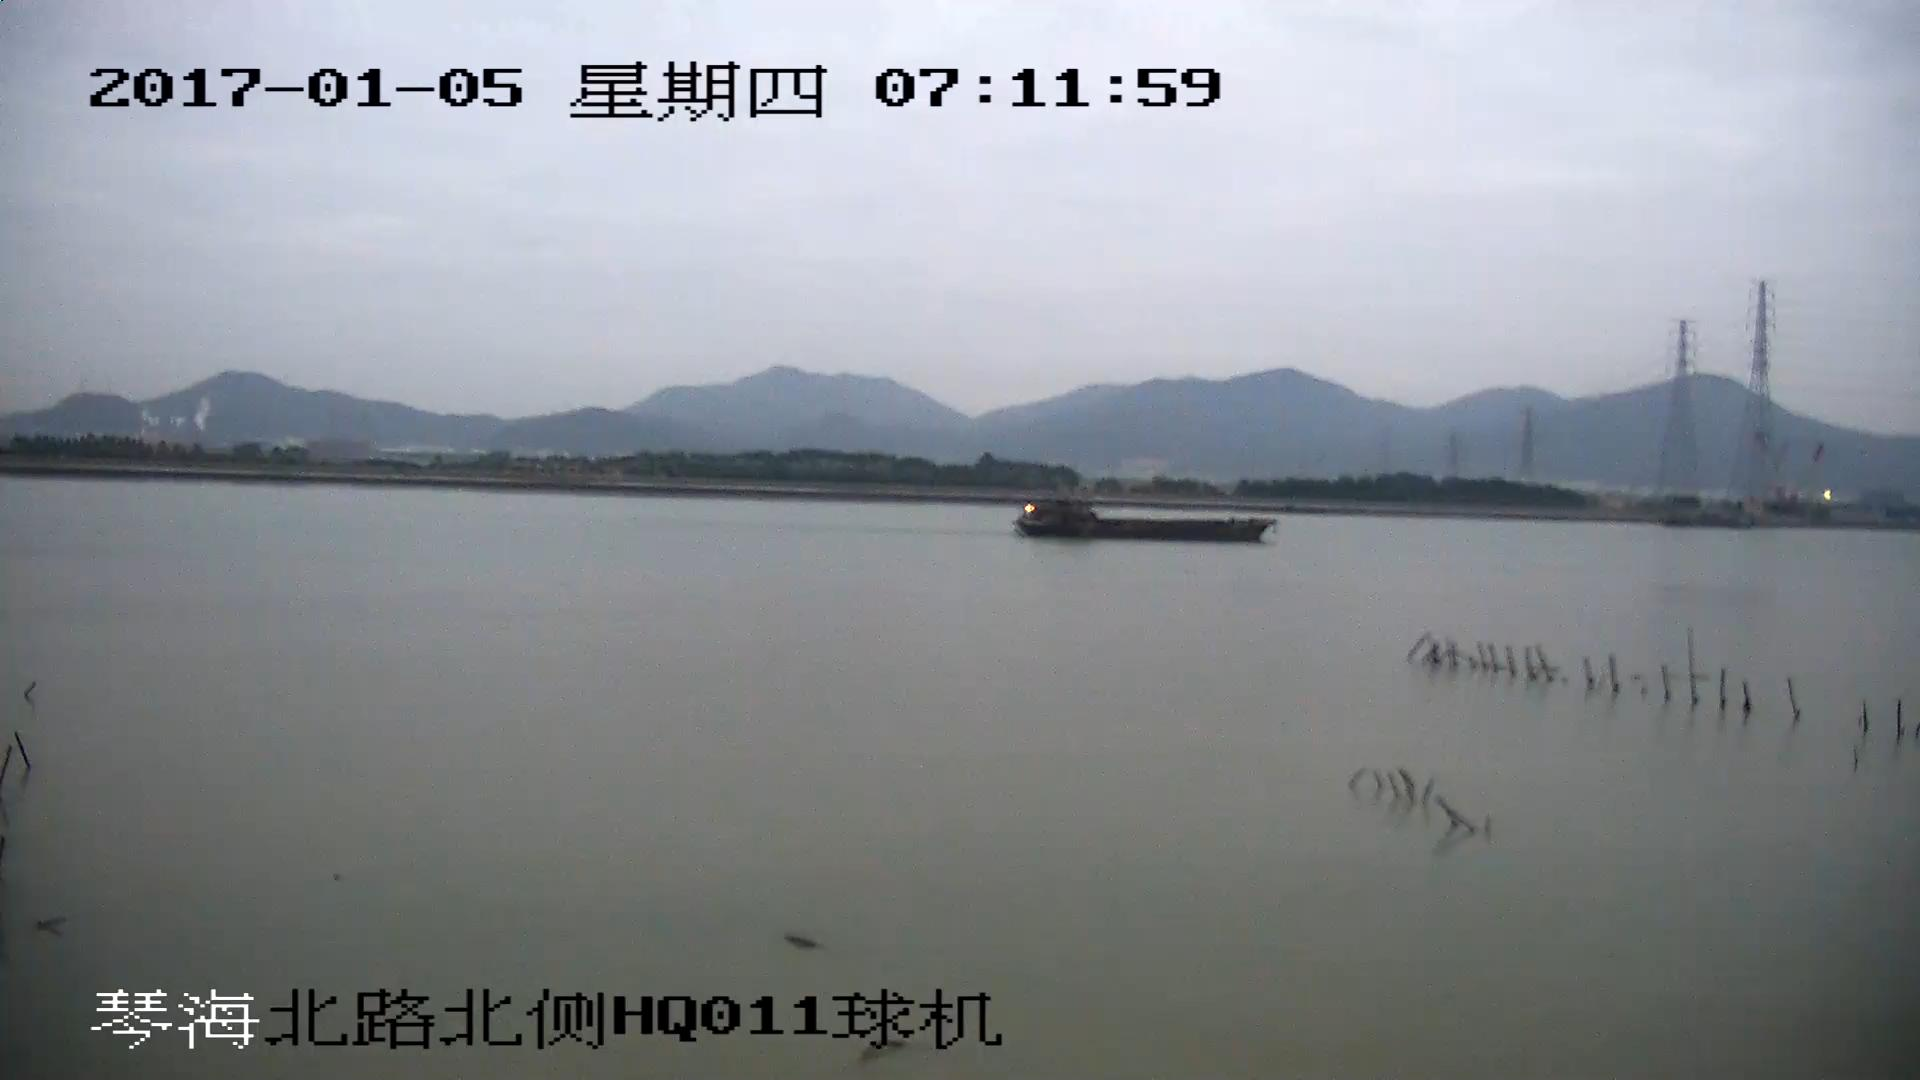bulk cargo carrier: (1016, 496, 1279, 546)
